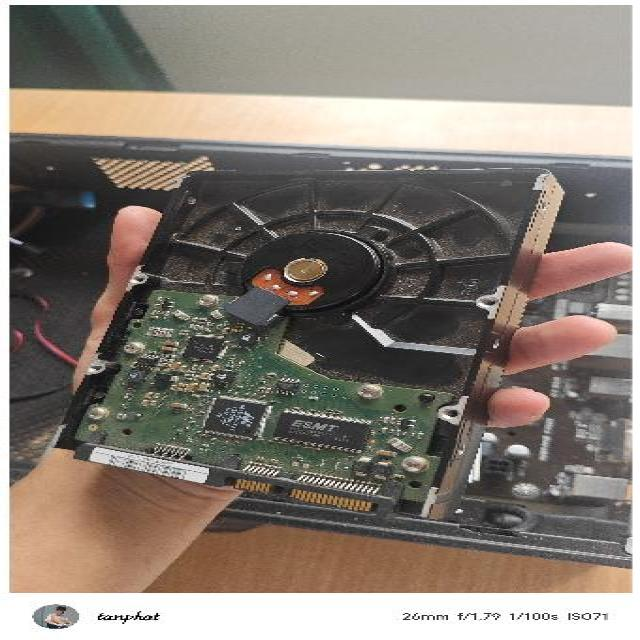DISK: (39, 158, 568, 521)
